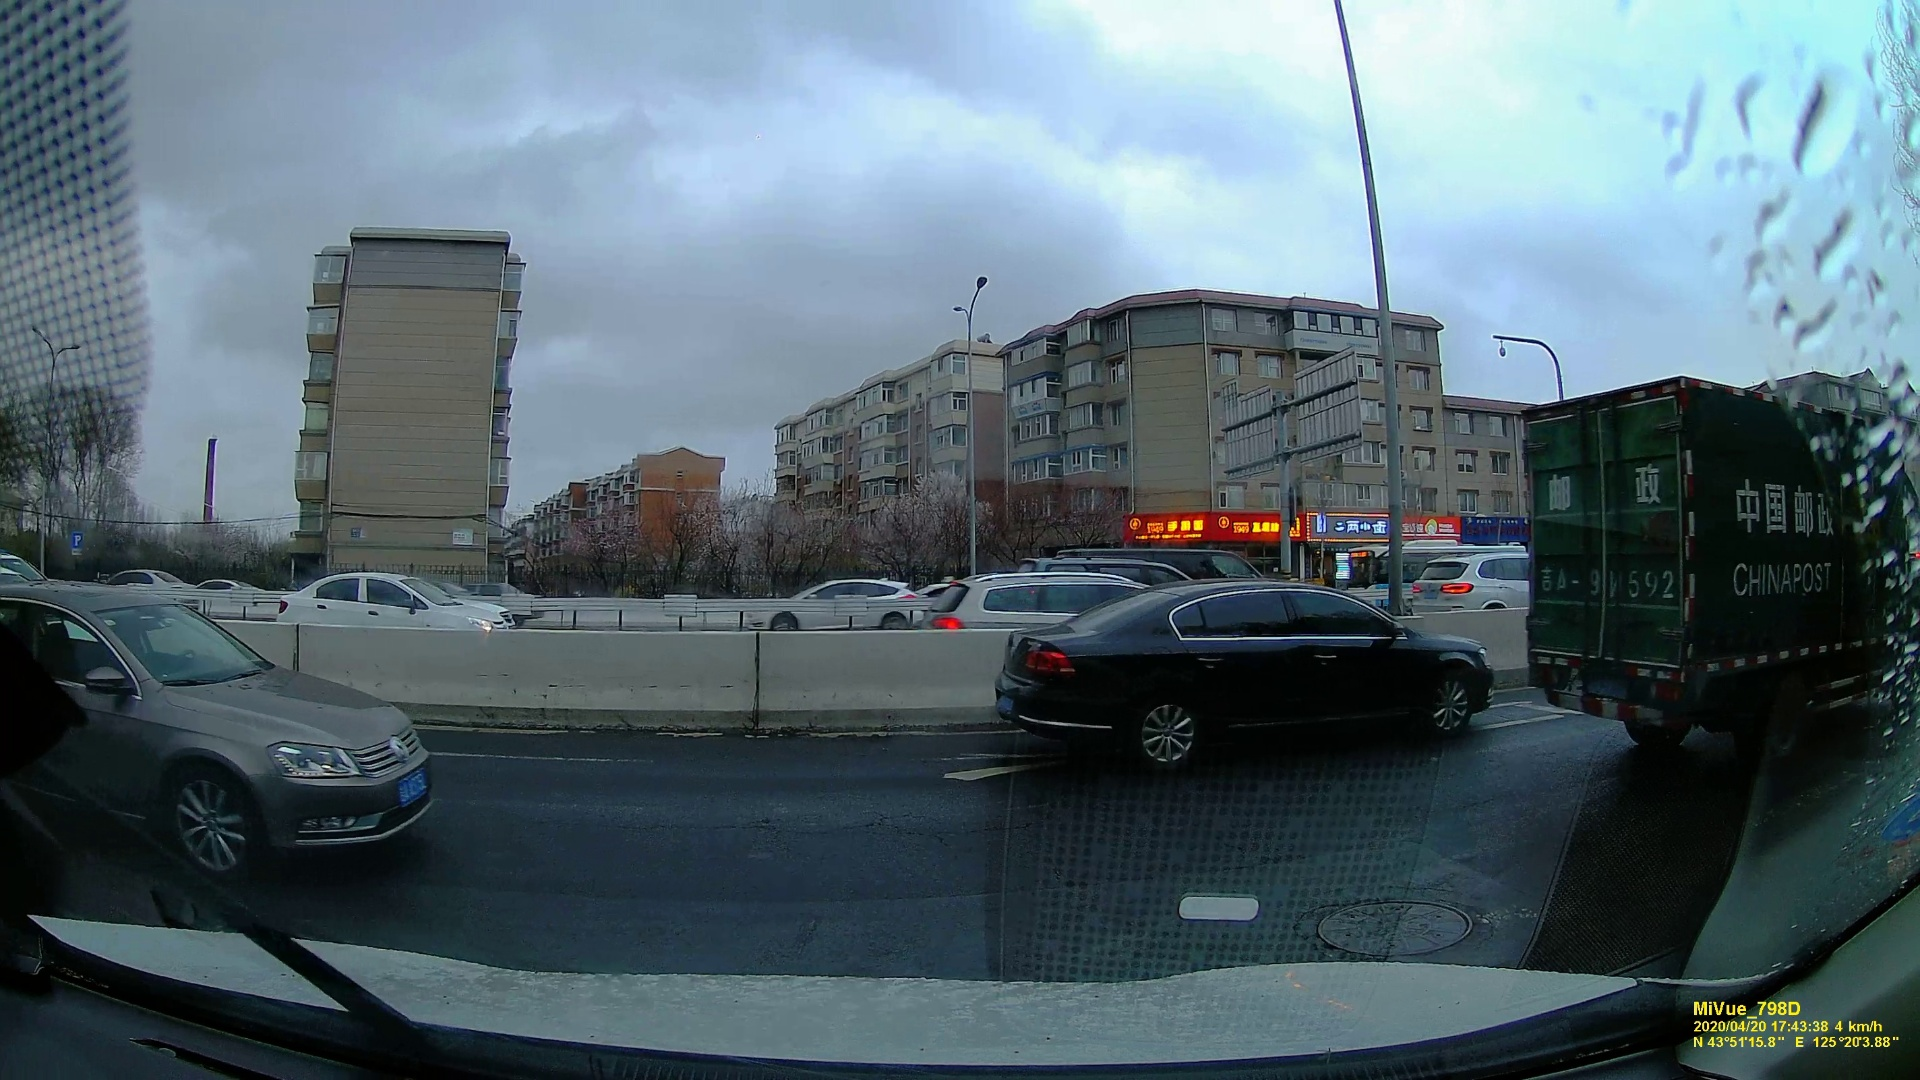truck: (1513, 375, 1909, 761)
vehicle: (33, 568, 433, 873), (997, 578, 1497, 764), (266, 567, 514, 642), (764, 571, 923, 633), (1404, 550, 1538, 618)
